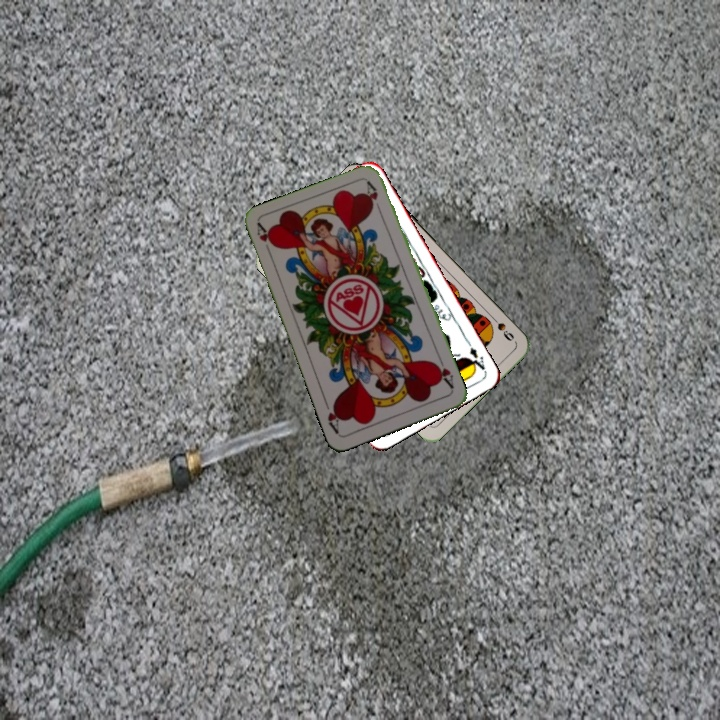EA: (462, 337, 488, 375)
HA: (252, 220, 278, 260), (430, 353, 456, 391)
S9: (486, 311, 517, 344)
